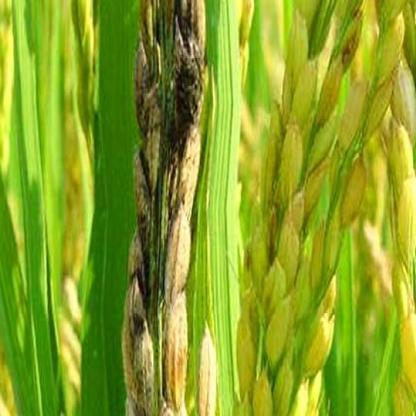rice-bug: (174, 23, 212, 140)
